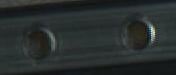joints: (116, 12, 157, 53), (16, 21, 55, 63)
